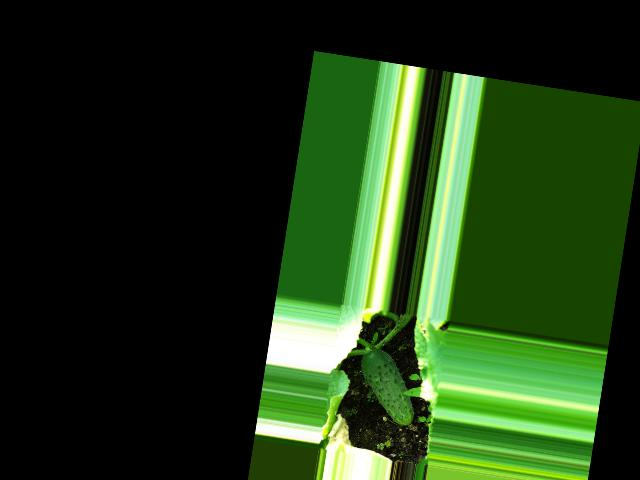cucumber: (352, 345, 423, 426)
